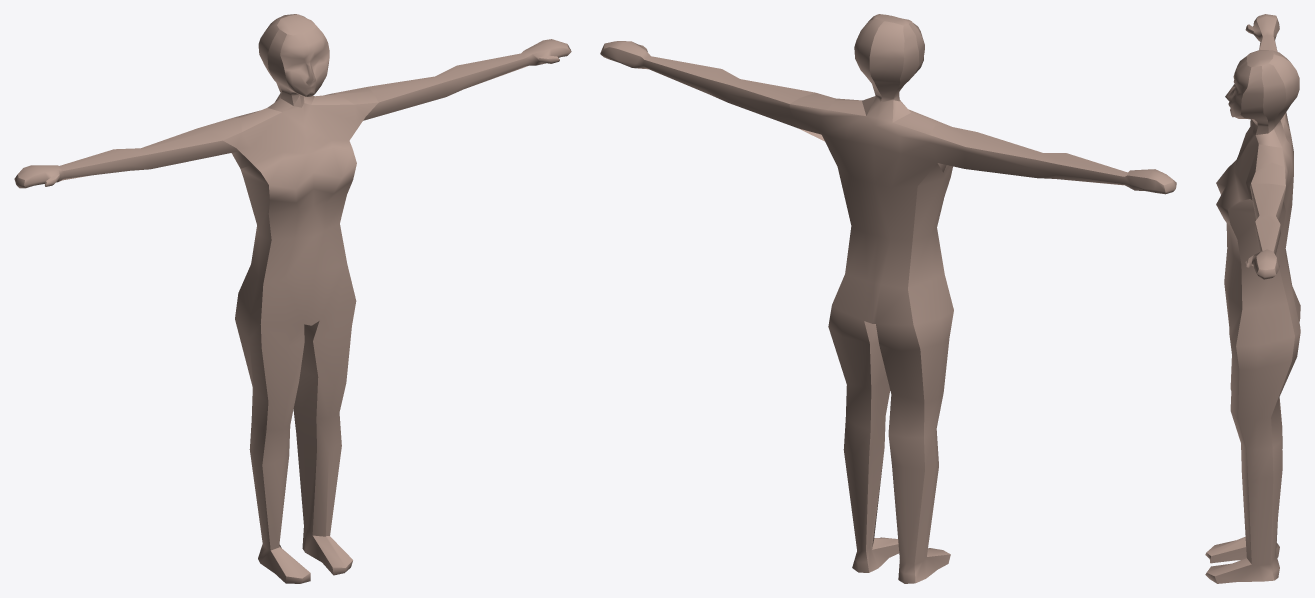
Rendered from woman.fbx.
3 views of the same model, side by side, from view 1: azimuth 30°, elevation 25°; view 2: azimuth 150°, elevation 25°; view 3: azimuth 270°, elevation 25° (orthographic). The views are drawn at different scales.
Visible parts, largest first — view 1: pCube1; view 2: pCube1; view 3: pCube1.
Part boxes in pixels (x1=…): pCube1: x1=14, y1=14, x2=571, y2=583; pCube1: x1=600, y1=14, x2=1176, y2=583; pCube1: x1=1205, y1=14, x2=1300, y2=583.
Size of the model in its own units: 4.71 by 4.37 by 0.735.
